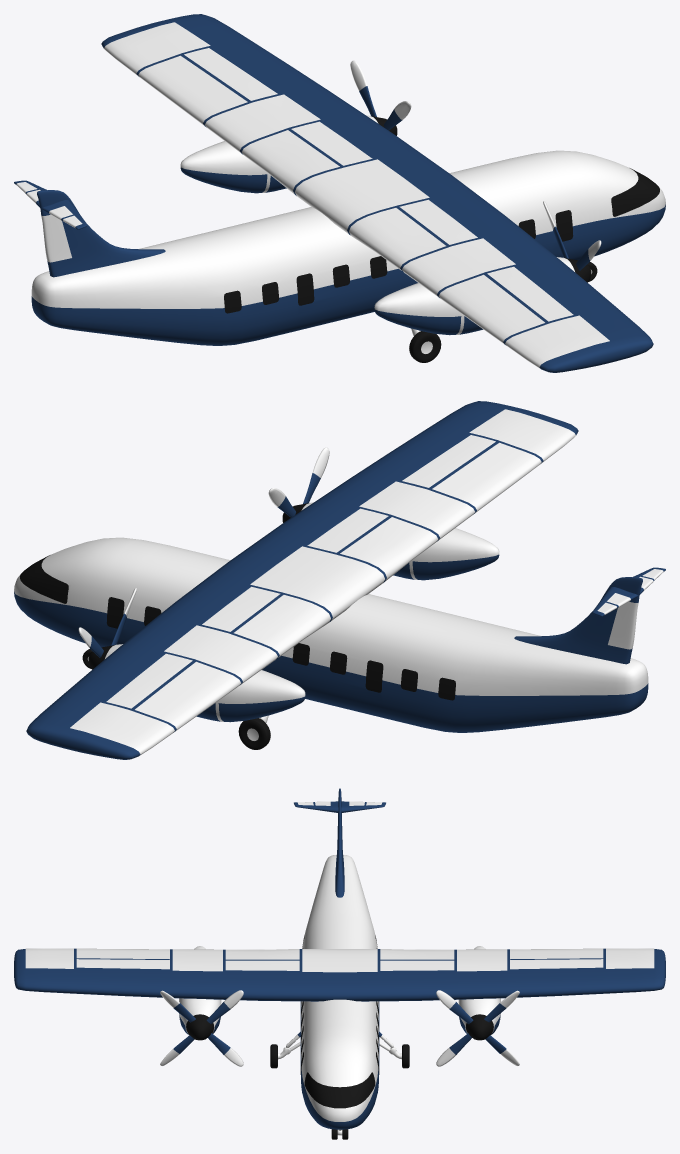
Rendered from 18_4_Airplane_AIRPORT_0.obj.
3 renders of one model, top to bottom at view 1: azimuth 30°, elevation 25°; view 2: azimuth 150°, elevation 25°; view 3: azimuth 270°, elevation 25°, orthographic. The views are drawn at different scales.
Visible parts, largest first — view 1: 18.4.Airplane_AIRPORT_0; view 2: 18.4.Airplane_AIRPORT_0; view 3: 18.4.Airplane_AIRPORT_0.
Part boxes in pixels (x1,y1,x2,y2): 18.4.Airplane_AIRPORT_0: [14, 14, 665, 372]; 18.4.Airplane_AIRPORT_0: [14, 401, 665, 759]; 18.4.Airplane_AIRPORT_0: [14, 788, 665, 1139].
Size of the model in its own units: 40.32 by 13.57 by 50.51.
Materials: 1 (1 with a texture image).
